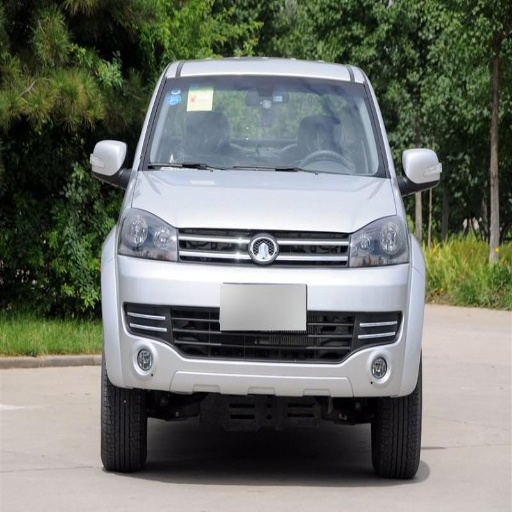front_bumper: (105, 228, 422, 396)
front_right_light: (118, 209, 177, 260)
hood: (132, 168, 396, 232)
left_mirror: (401, 148, 442, 193)
